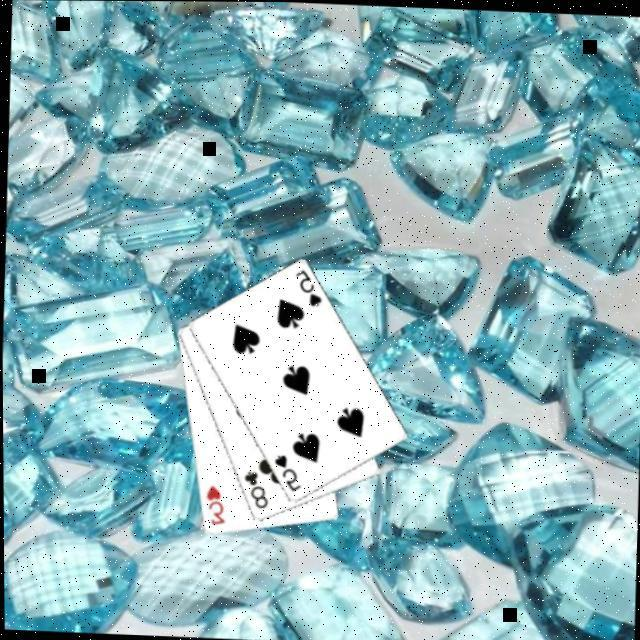3H: (201, 480, 228, 526)
5S: (270, 450, 304, 493), (292, 264, 326, 307)
8C: (239, 465, 270, 509)
